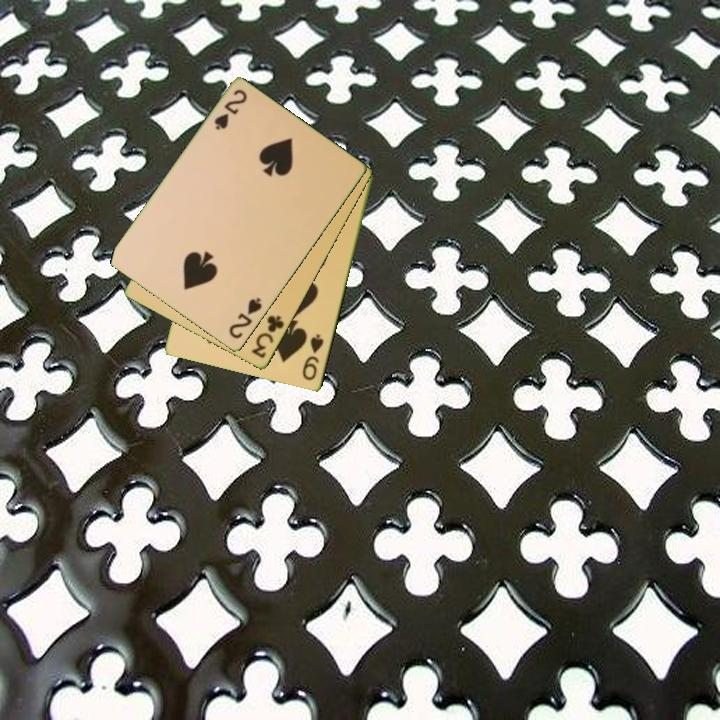2s: (225, 294, 265, 342), (211, 86, 250, 134)
3c: (248, 312, 287, 362)
9s: (299, 331, 327, 384)
